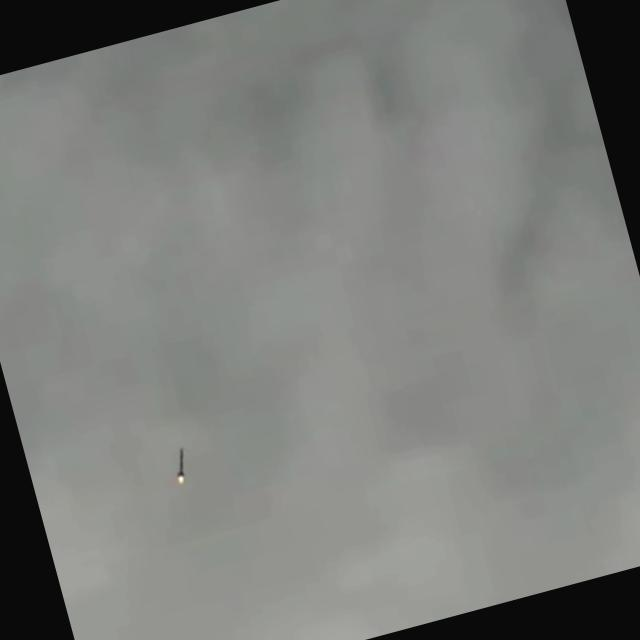rocket: (174, 448, 186, 483)
